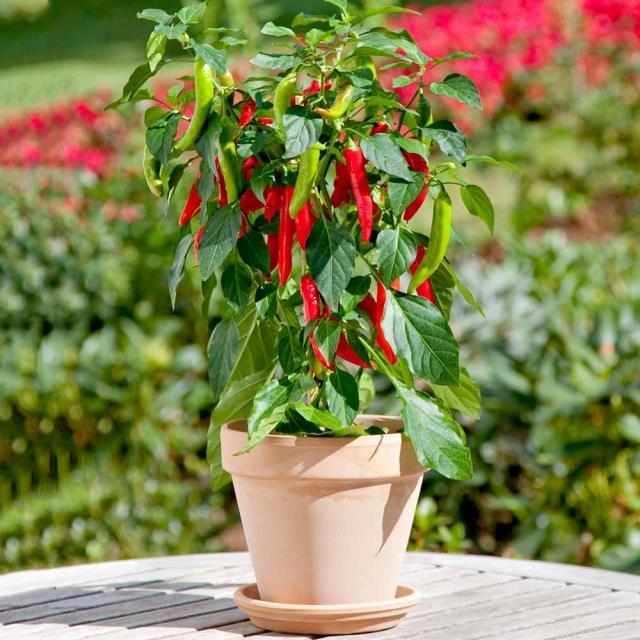chilli: (105, 0, 495, 490)
